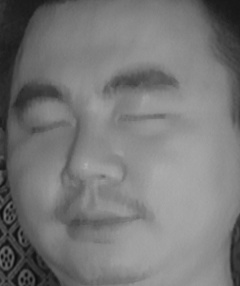blink: (117, 102, 171, 135), (22, 108, 71, 142)
mouth: (60, 193, 140, 250)
